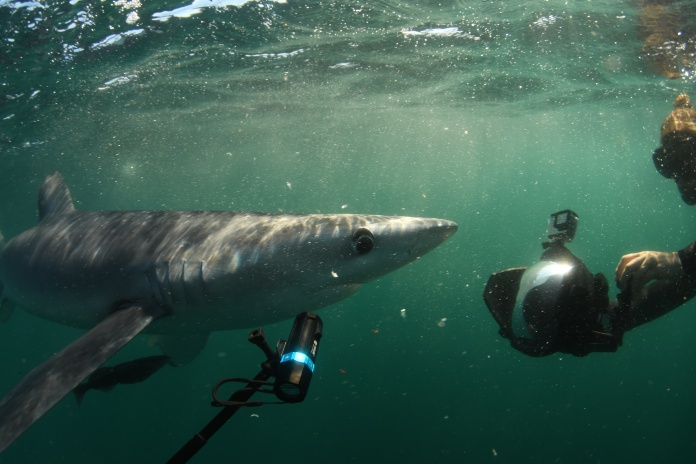Mako: (1, 156, 468, 460)
